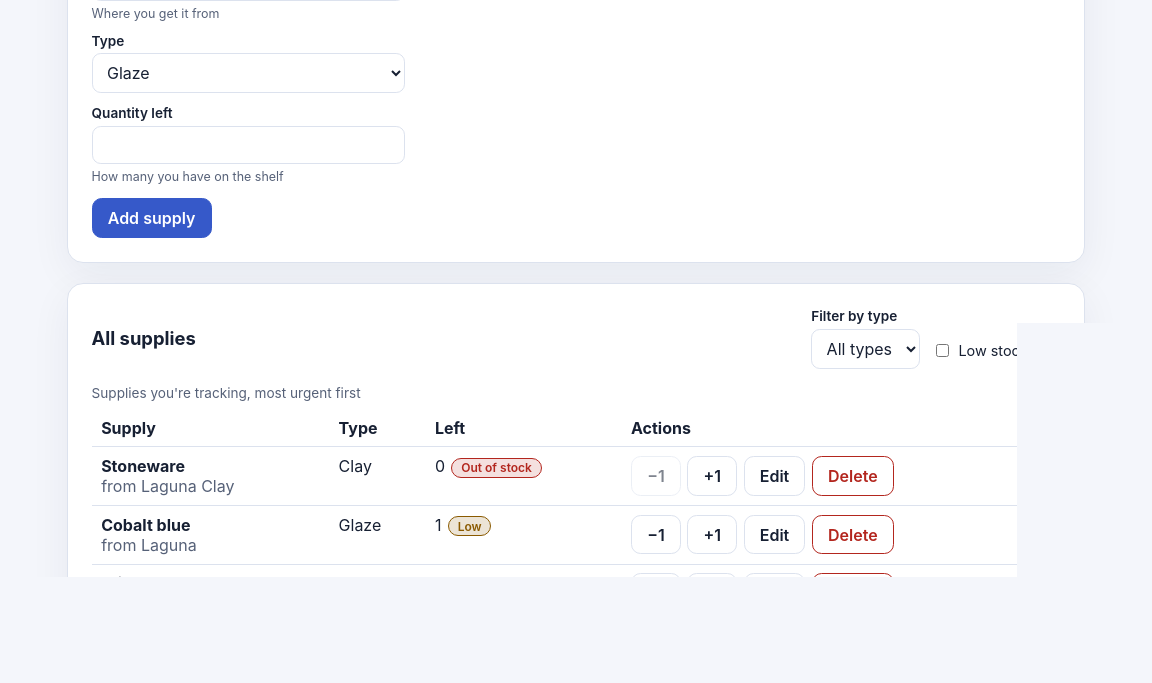
Test: spotting low stock › shows only the supplies that need attention when the low-stock filter is on
(page scrolled)
Click the checkbox labelled "Low stock only".
click(942, 350)  # box [936,344,949,357]
(page scrolled)
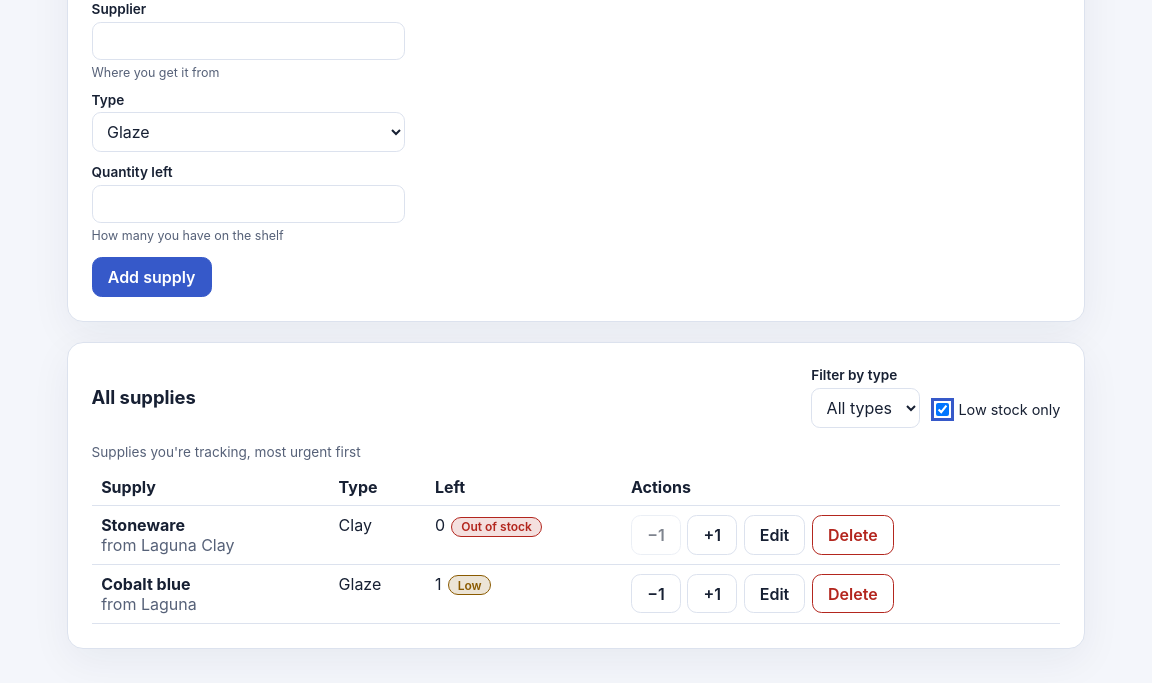
Expected: the text "Cobalt blue" is shown, [101,574,190,594]
Now the text "Wire cutters" is gone
Click the checkbox labelled "Low stock only".
click(942, 410)  # box [936,403,949,416]
(page scrolled)
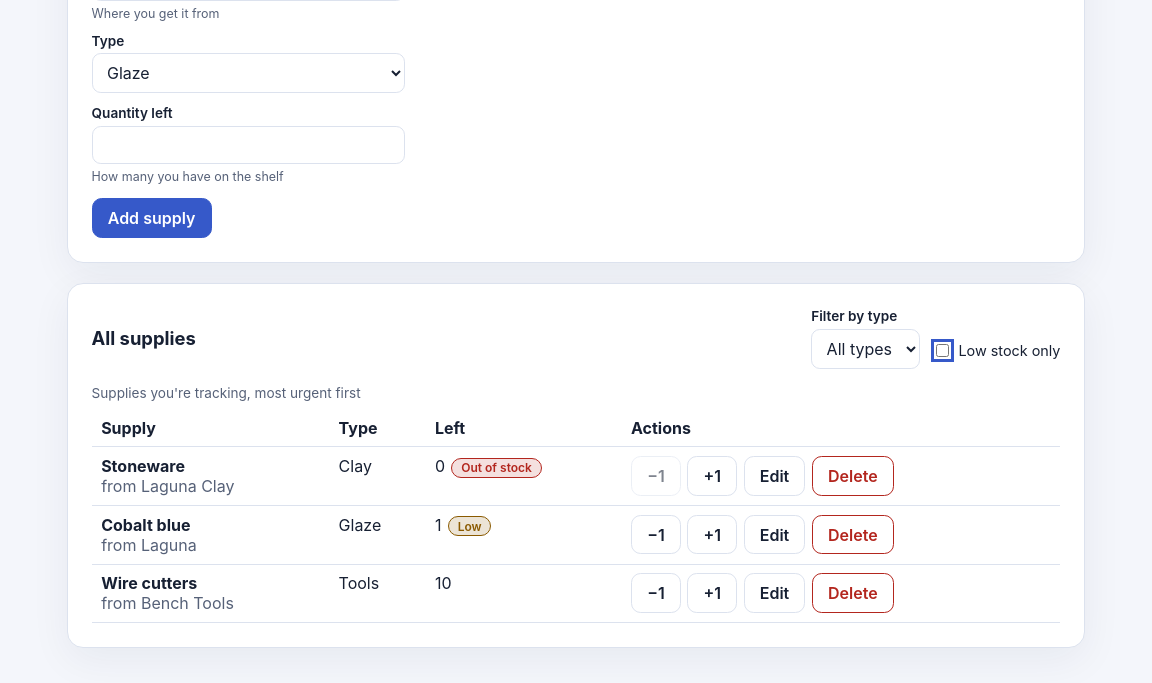
Now the table shows "Wire cutters", box [101,573,197,593]
